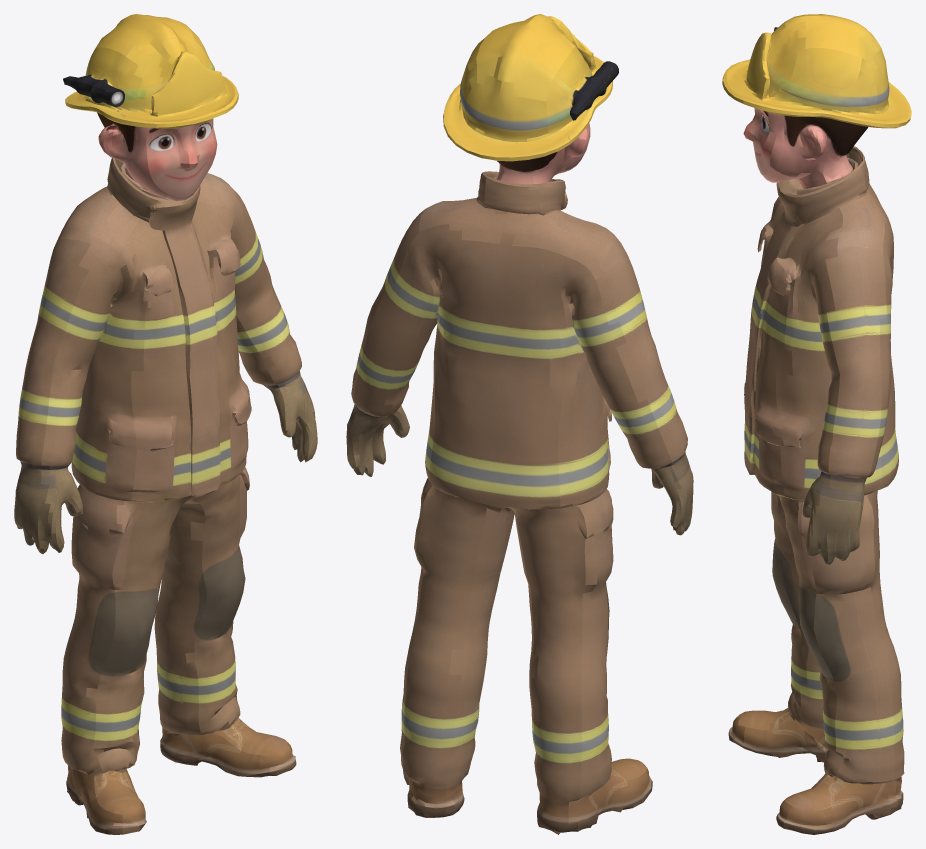
Rendered from panda.glb.
3 renders of one model, left to right at view 1: azimuth 30°, elevation 25°; view 2: azimuth 150°, elevation 25°; view 3: azimuth 270°, elevation 25°, orthographic. The views are drawn at different scales.
Visible parts, largest first — view 1: Mesh0; view 2: Mesh0; view 3: Mesh0.
Boxes of the visible parts, <box> form: Mesh0: <box>14,14,317,834</box>; Mesh0: <box>346,14,693,834</box>; Mesh0: <box>722,14,911,834</box>.
Size of the model in its own units: 0.8015 by 1.9 by 0.4288.
Materials: 1 (1 with a texture image).
